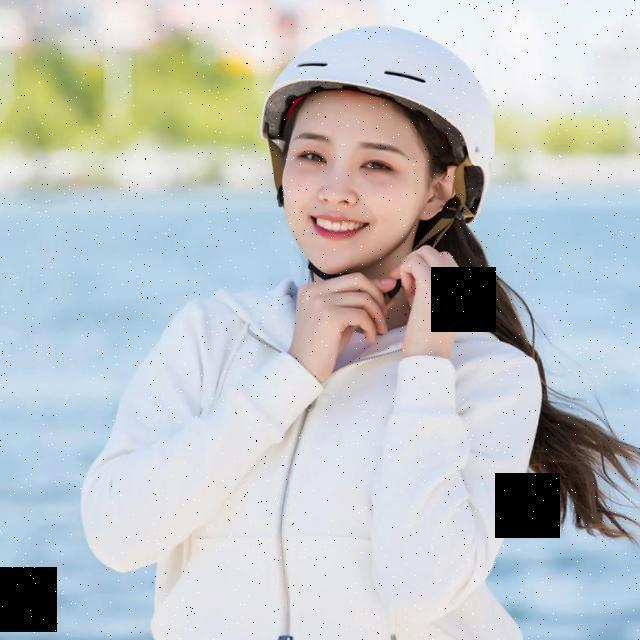helmet: (264, 24, 490, 292)
